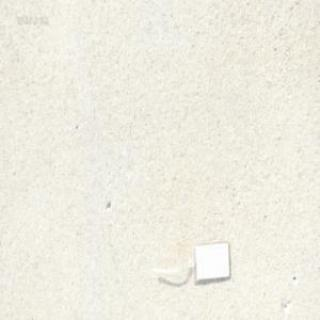LuggageTagtrack_idkeyframe: (148, 238, 230, 284)
